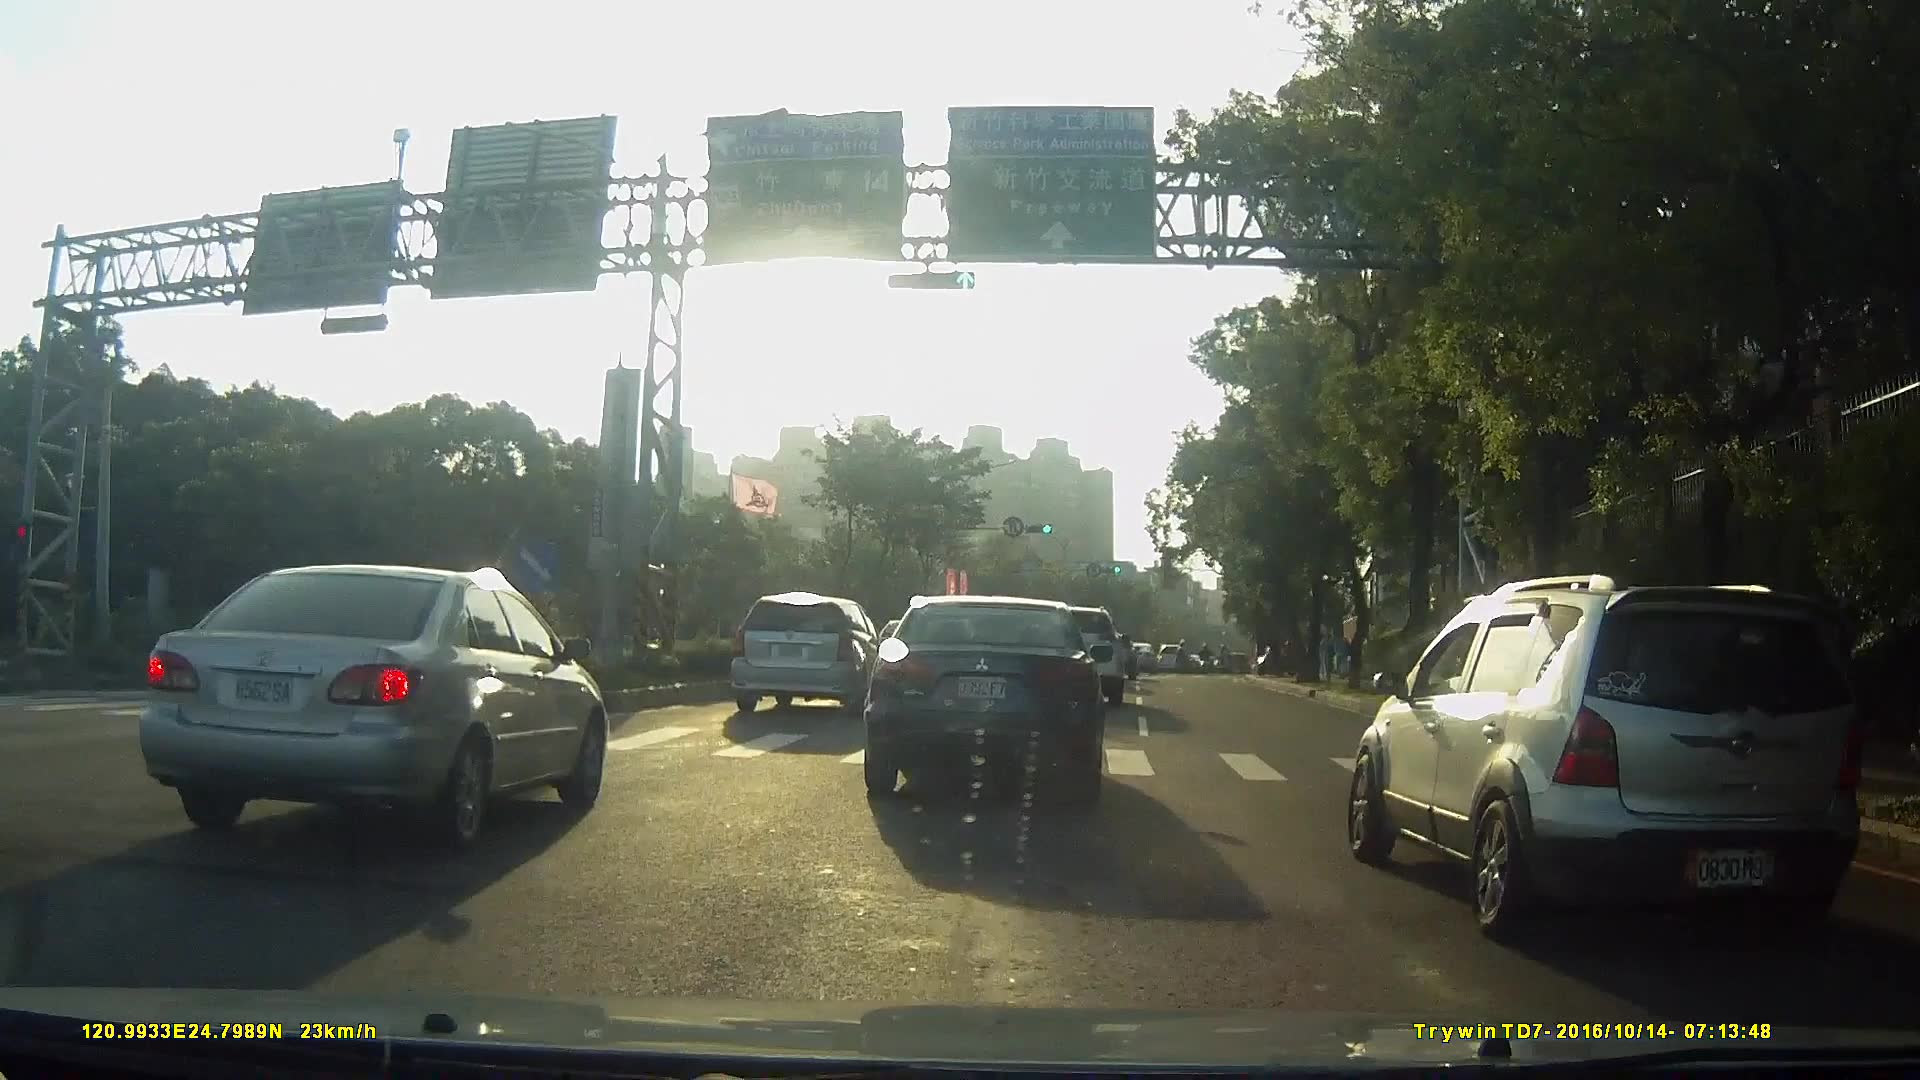vehicle: (1345, 571, 1861, 960), (113, 558, 624, 864), (855, 596, 1125, 814), (719, 595, 881, 723), (1117, 640, 1151, 671), (1147, 645, 1179, 675)
